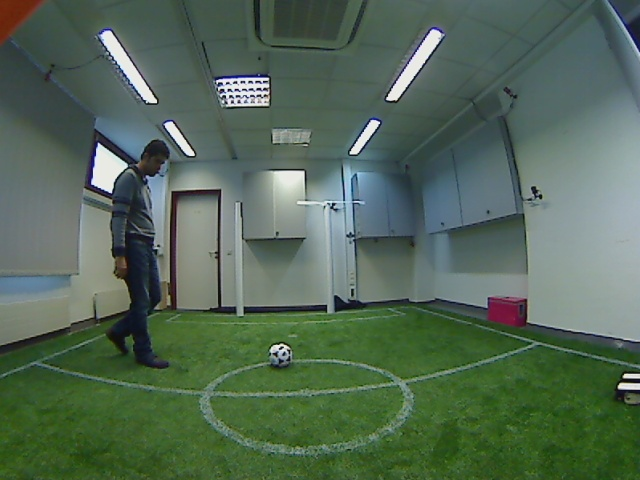ball: (260, 337, 300, 373)
